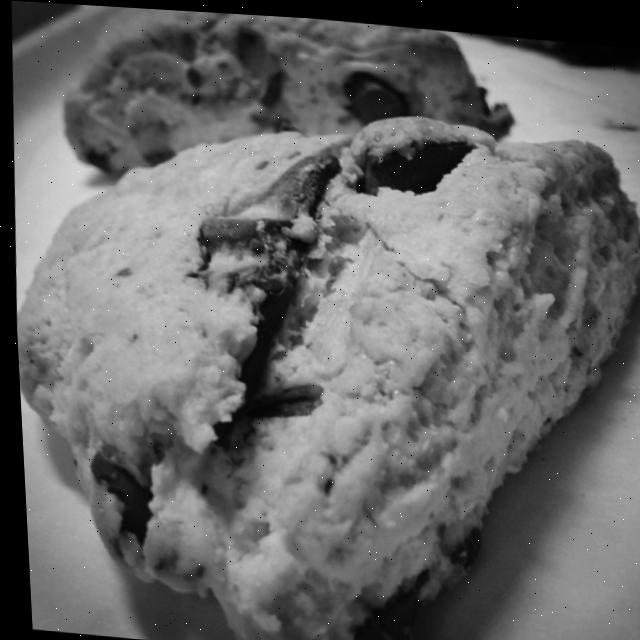面包点心: (0, 7, 640, 640)
